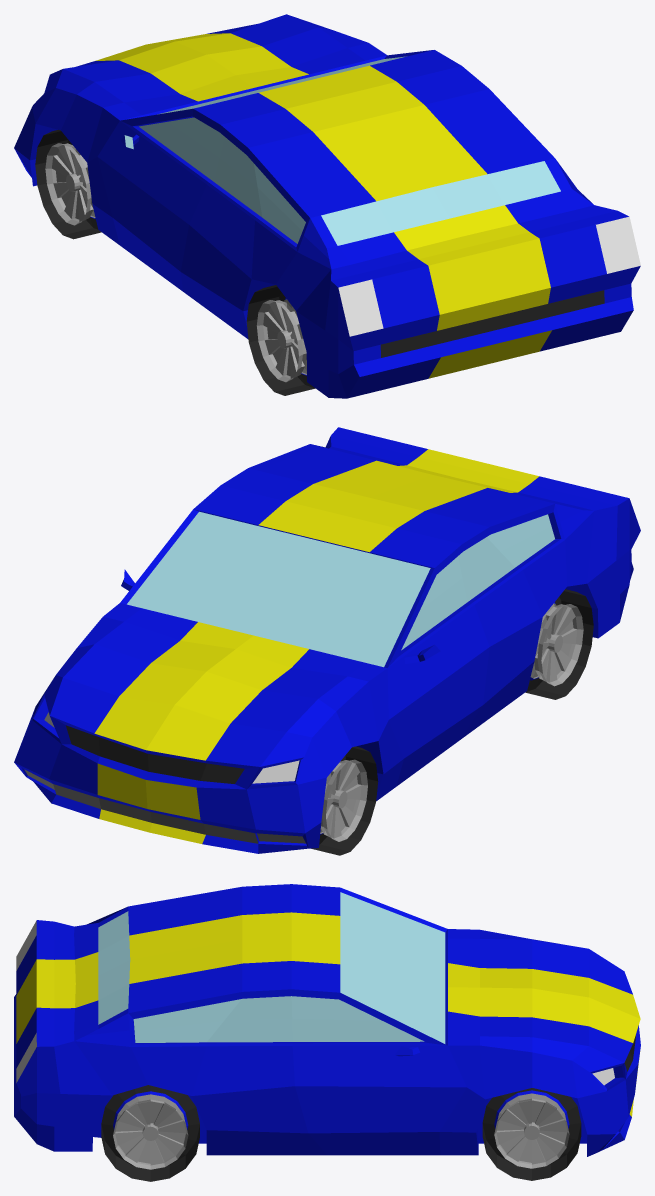
The model's file is car1.fbx.
3 renders of one model, top to bottom at view 1: azimuth 30°, elevation 25°; view 2: azimuth 150°, elevation 25°; view 3: azimuth 270°, elevation 25°, orthographic. The views are drawn at different scales.
Visible parts, largest first — view 1: Cube; view 2: Cube; view 3: Cube.
Part boxes in pixels (x1,y1,x2,y2): Cube: [14, 14, 640, 398]; Cube: [14, 427, 640, 855]; Cube: [14, 884, 640, 1181].
Bounding box in the file's own units: 225 × 139 × 434.
